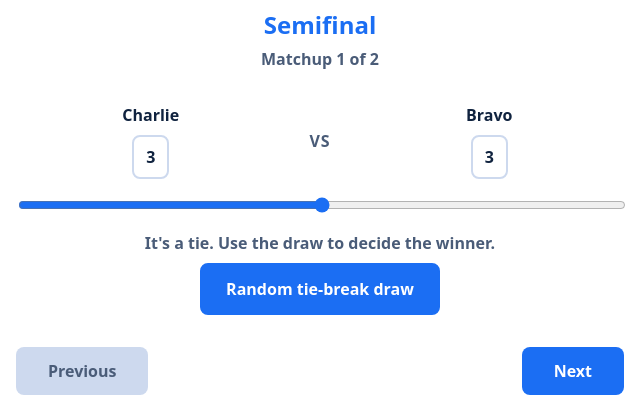
Test case: VoteMatchup › shows the tie-break control only on a tie and records no winner (Req 16.7, 16.9)
Expected: the button "Random tie-break draw" is shown, left=200, top=263, right=440, bottom=315
# Move to a non-tie split: the tie-break control disappears.
Set the slider to "4": (421, 205) left=18, top=197, right=626, bottom=213
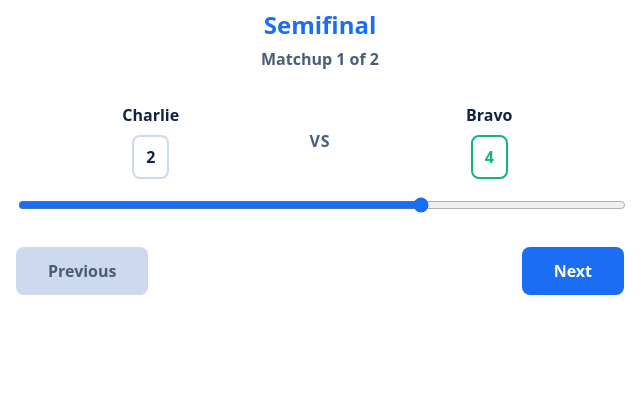
Expected: the button "tie-break draw" is gone
